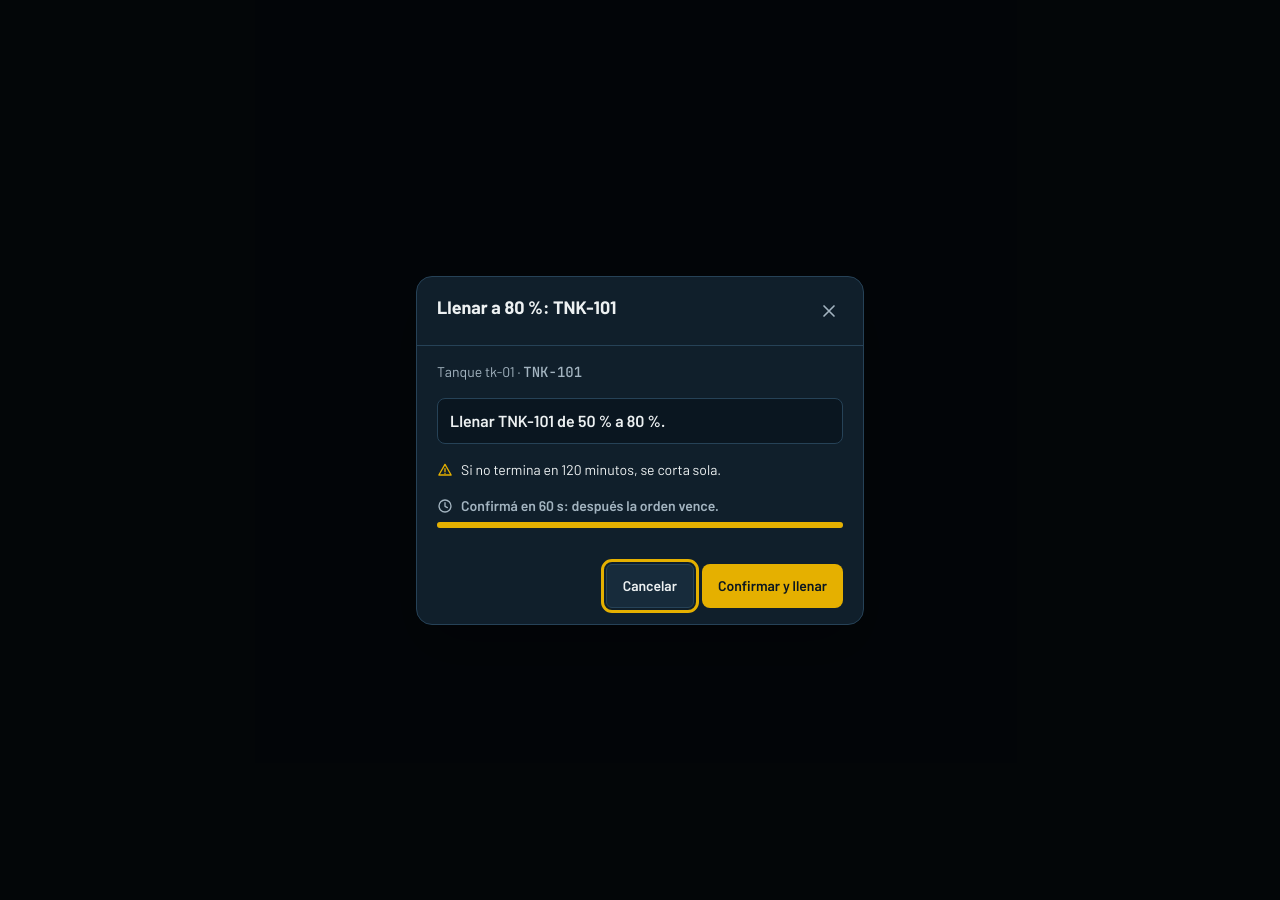
diálogo de confirmación (dos pasos) › errores 409/429/503 al ejecutar se explican en voseo
This screenshot has width=1280, height=900.
Later steps or results of the test are not shown.
Click the button with test id "confirm-go". click: (772, 586)
box: x1=702 y1=564 x2=843 y2=608
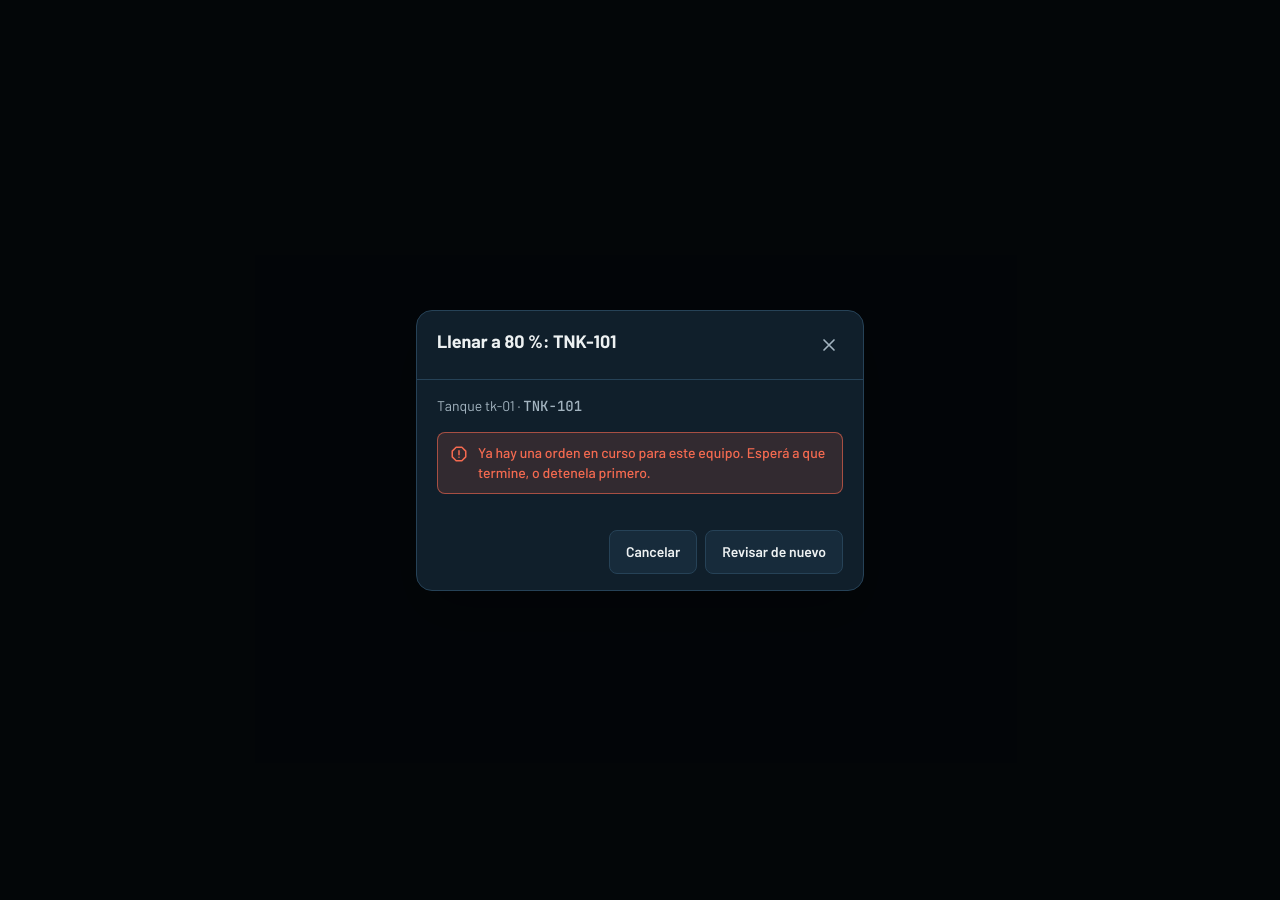
Result: the text with test id "confirm-error" shows "Ya hay una orden en curso" at x1=478 y1=444 x2=825 y2=480
